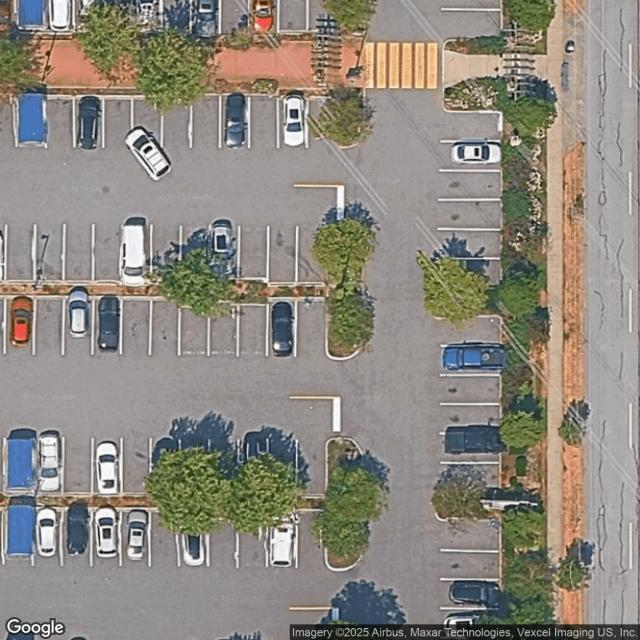car: (118, 222, 151, 289), (444, 422, 506, 457), (440, 342, 505, 373), (266, 512, 297, 569), (241, 432, 268, 495), (209, 220, 237, 278), (450, 579, 504, 608), (37, 432, 63, 492), (96, 295, 122, 354), (179, 511, 206, 567), (76, 94, 101, 152), (270, 300, 295, 356), (281, 95, 307, 148), (94, 441, 120, 494), (443, 610, 494, 637), (66, 288, 92, 340), (92, 508, 118, 559), (224, 92, 247, 149), (449, 142, 503, 166), (34, 507, 59, 558), (9, 296, 33, 346), (64, 506, 88, 556), (125, 510, 148, 561), (194, 1, 218, 40), (251, 0, 276, 36), (74, 0, 99, 33), (48, 0, 72, 34), (135, 0, 159, 33)
objects: (0, 438, 368, 571), (0, 236, 364, 359), (0, 38, 362, 90), (444, 40, 503, 110), (14, 87, 47, 148), (437, 287, 501, 317), (436, 493, 501, 522), (4, 432, 34, 492), (333, 92, 363, 147), (5, 508, 33, 560), (17, 0, 46, 32), (338, 0, 366, 32)
stall: (436, 433, 501, 463), (436, 463, 501, 493), (436, 550, 501, 580), (436, 316, 501, 346), (436, 375, 501, 405), (438, 170, 502, 200), (437, 579, 501, 609), (438, 200, 502, 230), (438, 229, 502, 259), (438, 258, 502, 288), (436, 345, 500, 375), (437, 610, 501, 640), (436, 404, 501, 433), (436, 521, 501, 550), (438, 142, 502, 171), (438, 9, 502, 38), (438, 113, 502, 142), (120, 224, 152, 281), (5, 226, 36, 282), (297, 225, 327, 281), (268, 225, 298, 281), (34, 225, 64, 281), (64, 225, 94, 281), (92, 224, 122, 280), (62, 299, 92, 355), (92, 299, 122, 355), (120, 300, 150, 356), (150, 300, 180, 356), (266, 300, 296, 356), (296, 300, 326, 356), (5, 297, 35, 353), (34, 298, 64, 354), (121, 437, 151, 493), (93, 437, 123, 493), (238, 438, 268, 494), (267, 439, 297, 495), (296, 439, 326, 495), (150, 509, 180, 565), (150, 438, 180, 494), (92, 509, 122, 565), (120, 509, 150, 565), (207, 512, 237, 568), (62, 508, 92, 564), (268, 512, 298, 568), (62, 437, 92, 492), (209, 438, 239, 493), (178, 438, 208, 493), (178, 511, 208, 566), (236, 511, 266, 566), (296, 511, 326, 566), (44, 96, 74, 149), (74, 96, 104, 149), (238, 225, 268, 278), (208, 306, 238, 359), (162, 98, 192, 150), (238, 305, 268, 357), (191, 96, 220, 149), (104, 97, 133, 150), (305, 97, 334, 150), (278, 97, 307, 150), (36, 436, 63, 492), (34, 508, 61, 564), (220, 97, 249, 149), (132, 97, 161, 149), (152, 224, 180, 277), (210, 226, 238, 279), (250, 96, 278, 148), (182, 225, 210, 277), (180, 307, 208, 359), (74, 0, 103, 32), (248, 0, 277, 32), (45, 0, 74, 32), (190, 1, 218, 34), (279, 0, 307, 32), (106, 0, 134, 32), (133, 0, 161, 32), (162, 0, 190, 32), (221, 0, 249, 32), (309, 1, 337, 31)
